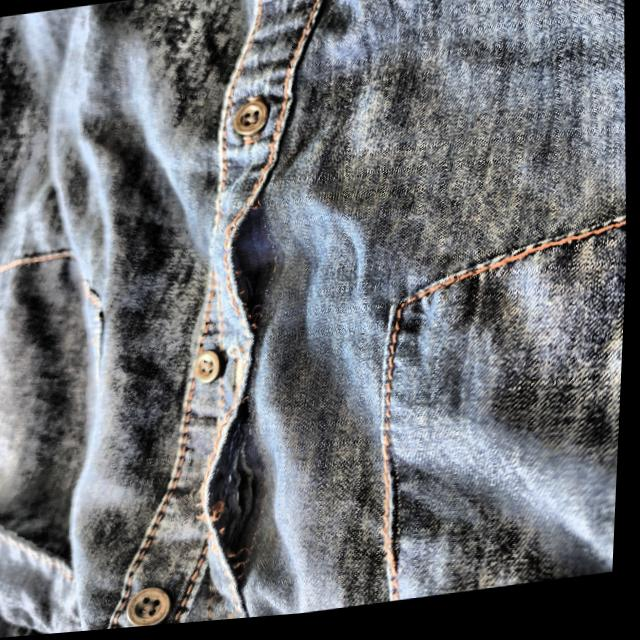seam: (183, 378, 302, 606), (212, 175, 297, 359)
